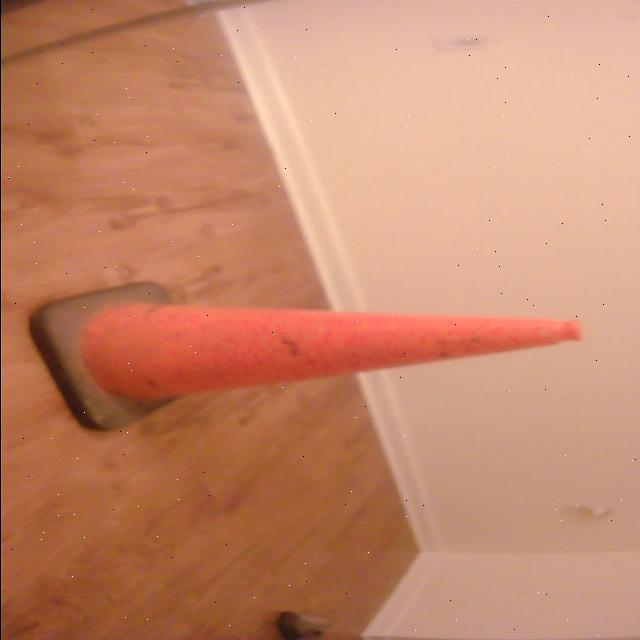traffic cone: (23, 278, 596, 440)
